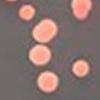orange: (31, 19, 57, 42), (34, 71, 59, 94), (26, 44, 52, 66), (70, 0, 92, 20), (71, 58, 90, 80), (17, 4, 35, 22), (2, 0, 20, 3)
